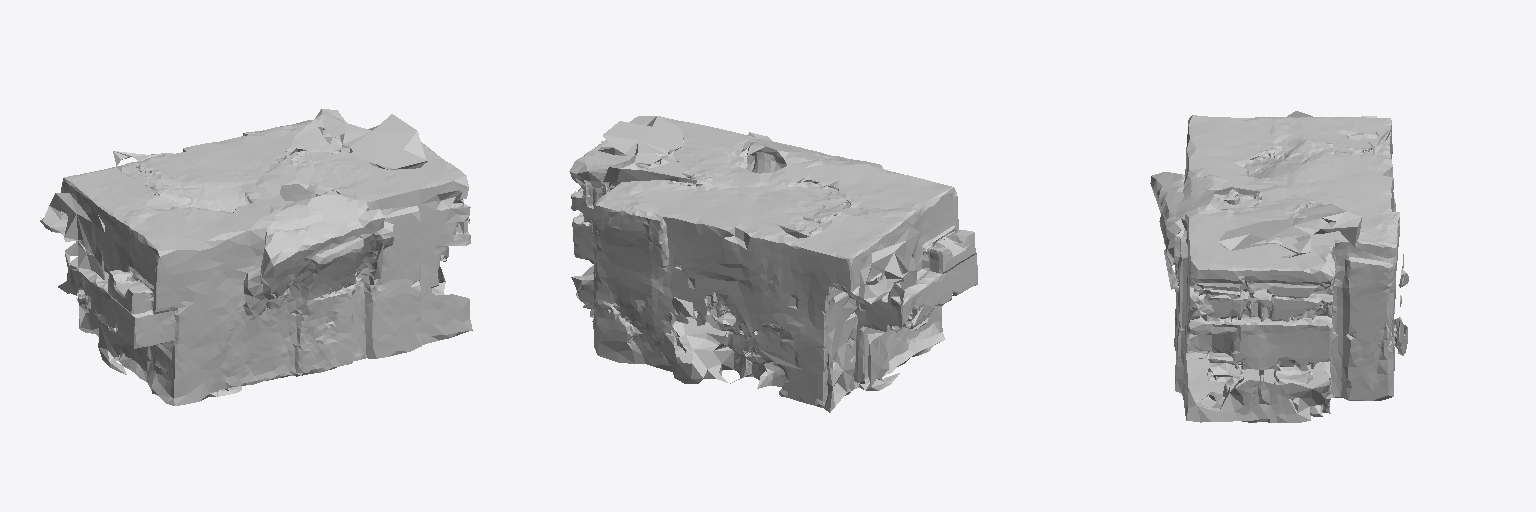
Rendered from Beaty Main Room.obj.
3 renders of one model, left to right at view 1: azimuth 30°, elevation 25°; view 2: azimuth 150°, elevation 25°; view 3: azimuth 270°, elevation 25°, orthographic.
Visible parts, largest first — view 1: mesh_simple_rotated_0, mesh_simple_rotated_1; view 2: mesh_simple_rotated_0, mesh_simple_rotated_1; view 3: mesh_simple_rotated_0, mesh_simple_rotated_1.
Boxes of the visible parts, <box> form: mesh_simple_rotated_0: <box>40,109,470,405</box>; mesh_simple_rotated_1: <box>280,184,472,372</box>; mesh_simple_rotated_0: <box>569,116,977,412</box>; mesh_simple_rotated_1: <box>571,212,728,383</box>; mesh_simple_rotated_0: <box>1150,111,1408,366</box>; mesh_simple_rotated_1: <box>1174,269,1407,422</box>.
Size of the model in its own units: 5.22 by 2.74 by 3.4.